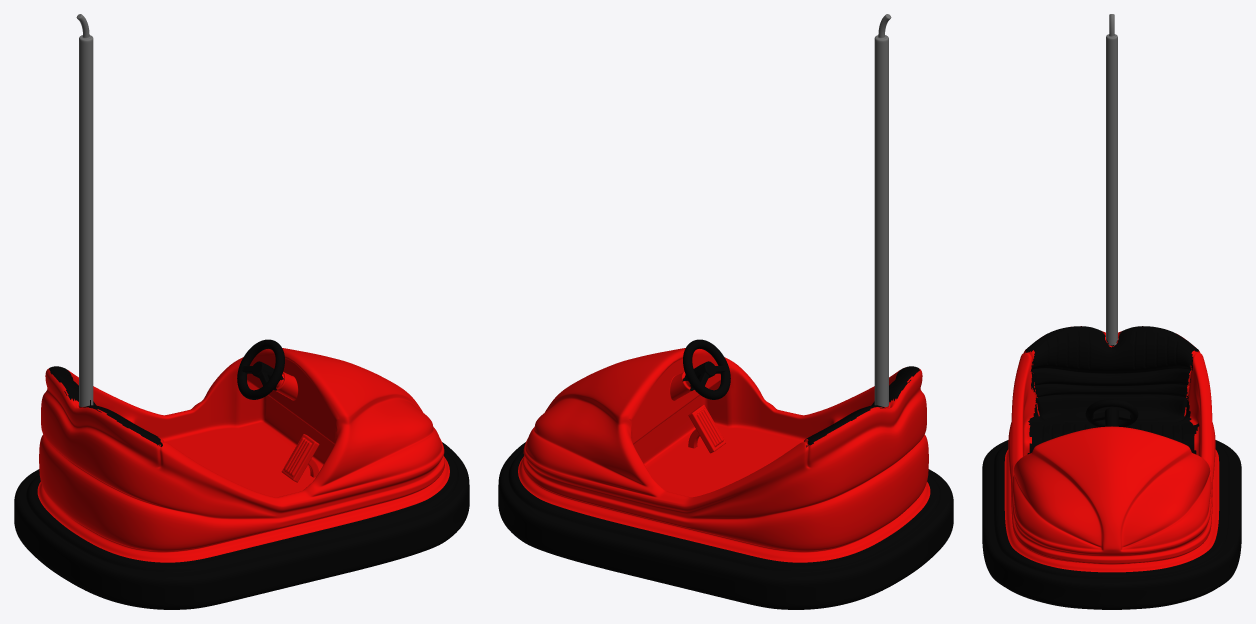
File: Coche Rojo.fbx
3 renders of one model, left to right at view 1: azimuth 30°, elevation 25°; view 2: azimuth 150°, elevation 25°; view 3: azimuth 270°, elevation 25°, orthographic. The views are drawn at different scales.
Parts seen in each view (by area): view 1: 16825_bumper_car_v2; view 2: 16825_bumper_car_v2; view 3: 16825_bumper_car_v2.
Part boxes in pixels (<box>): 16825_bumper_car_v2: <box>14,14,469,609</box>; 16825_bumper_car_v2: <box>498,14,953,609</box>; 16825_bumper_car_v2: <box>982,14,1241,609</box>.
Size of the model in its own units: 840 by 1137 by 578.
